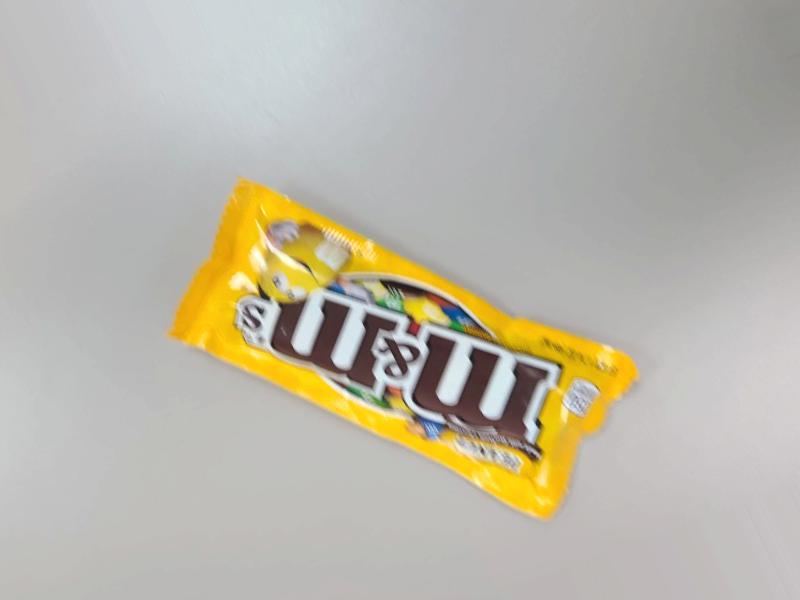m&m: (179, 148, 649, 527)
